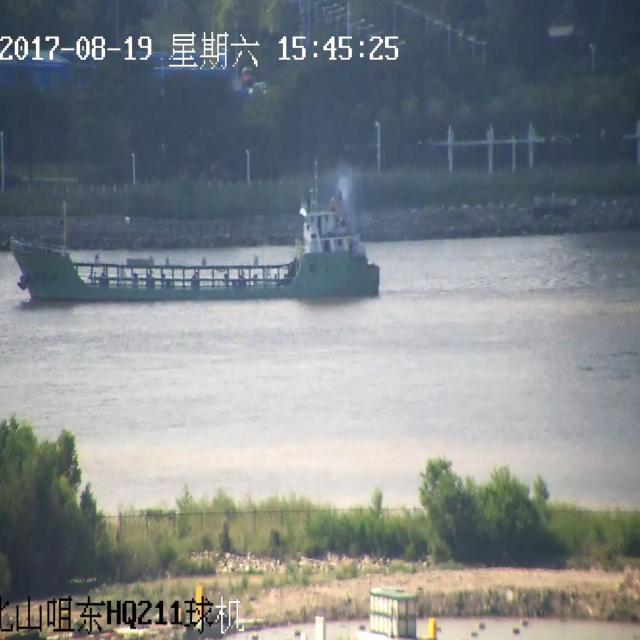houseboat: (0, 160, 391, 311)
